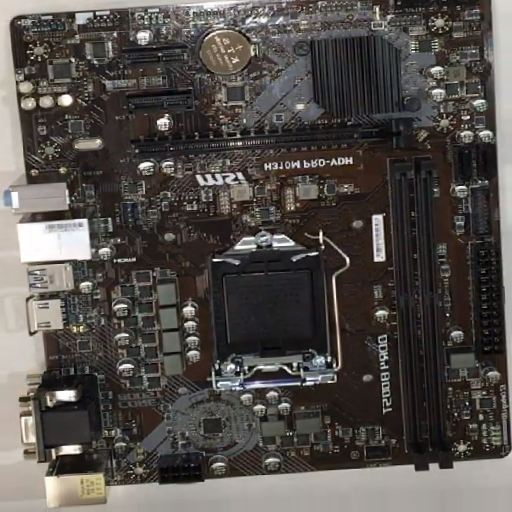CPU: (211, 230, 343, 391)
GPU: (133, 118, 415, 164)
MOTHERBOARD: (31, 3, 505, 485)
RAM: (387, 158, 453, 471)
